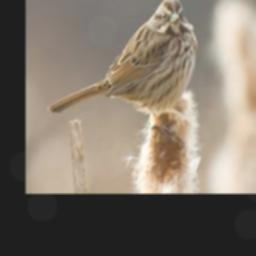Sparrow: (47, 0, 199, 146)
